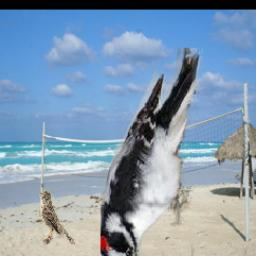Sparrow: (39, 189, 75, 245)
Woodpecker: (99, 48, 202, 256)
